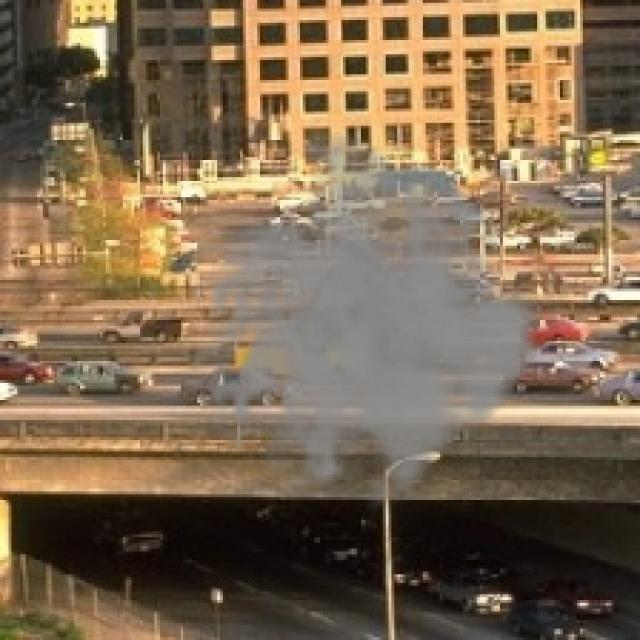Smoke: (185, 126, 546, 523)
